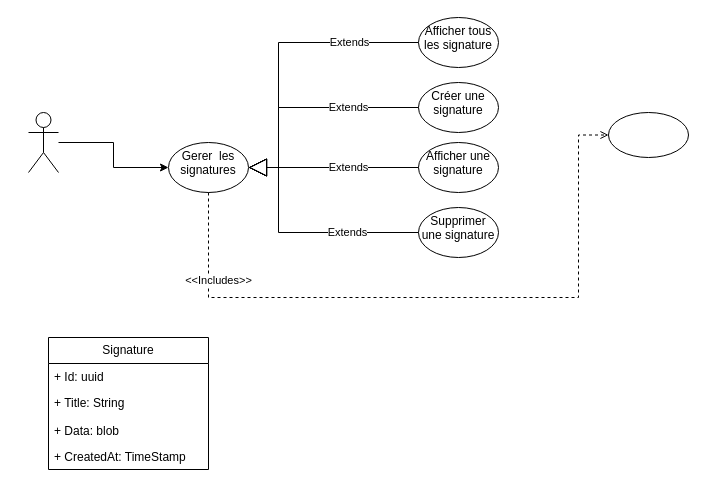
Image size: 706x490. Some labels were removed from this diagram. The shapes that lost their labels are listed below. From the top down, each one's centre as x and y in pixels, then its label:
the point at 43,142: Utilisateur
the point at 648,135: S'authentifier
